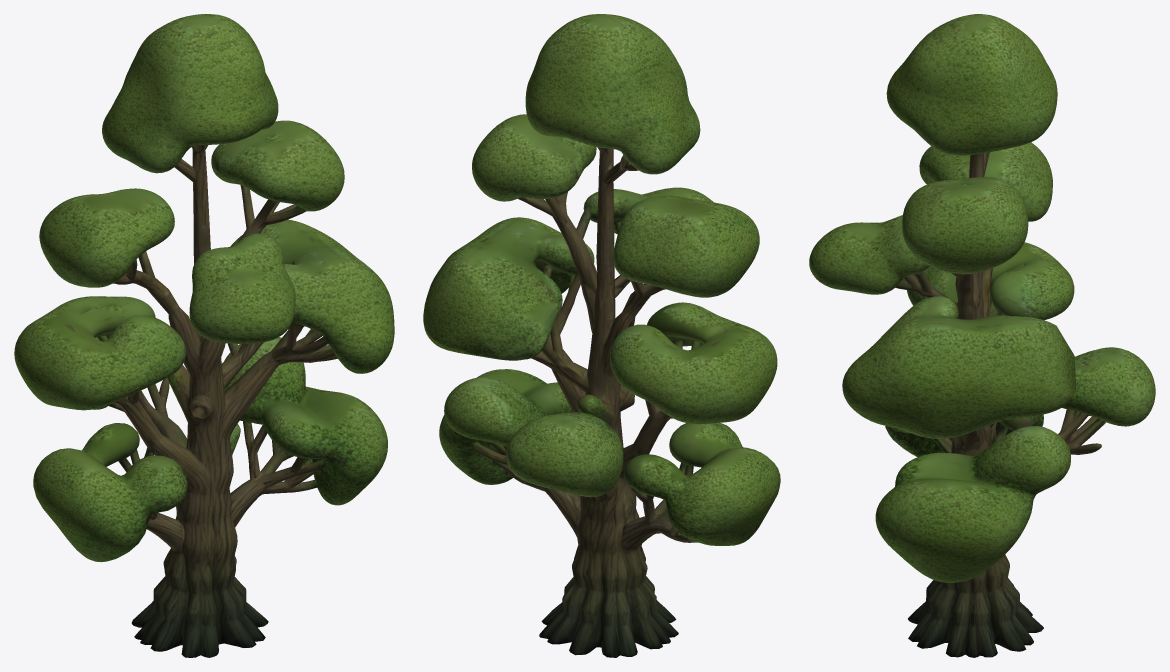
Rendered from tree1.glb.
3 renders of one model, left to right at view 1: azimuth 30°, elevation 25°; view 2: azimuth 150°, elevation 25°; view 3: azimuth 270°, elevation 25°, orthographic.
Visible parts, largest first — view 1: texture_pbr_v128; view 2: texture_pbr_v128; view 3: texture_pbr_v128.
Part boxes in pixels (<box>): texture_pbr_v128: <box>14,14,394,657</box>; texture_pbr_v128: <box>423,14,780,657</box>; texture_pbr_v128: <box>809,14,1155,657</box>.
Size of the model in its own units: 1.31 by 2.34 by 1.21.
1 material, 1 textured.
